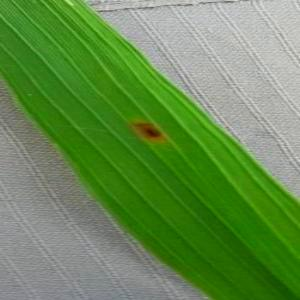0 BrownSpot: (126, 116, 170, 145)
